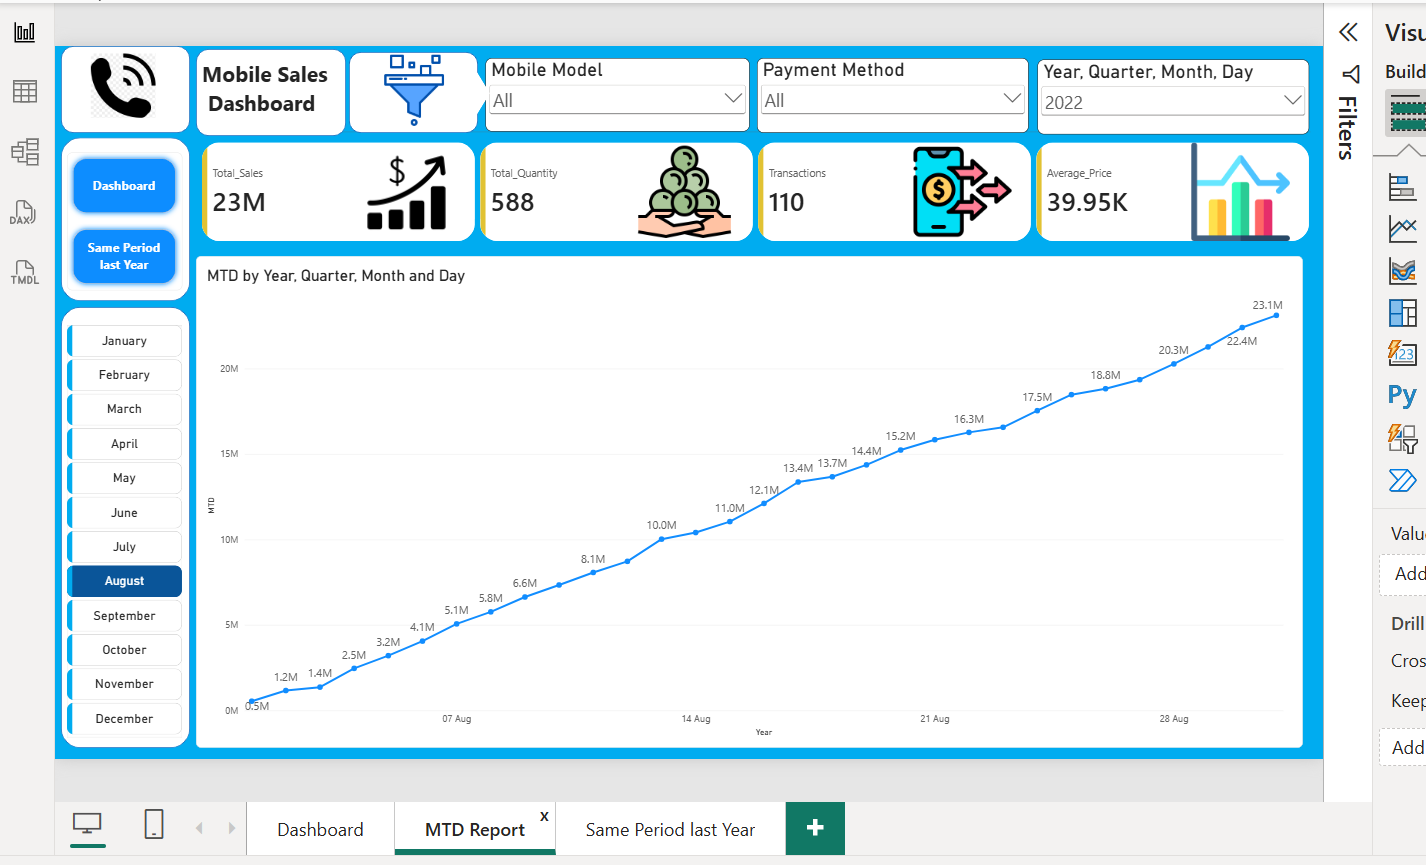

This screenshot's page, from the dashboard's own definition file:
{"tool":"powerbi","page":{"name":"MTD Report","canvas":[1920,1080],"ordinal":1},"visuals":[{"type":"shape","box":[9.1,0,195.3,131.7],"z":0},{"type":"shape","box":[9.1,138.5,195.3,247.6],"z":1000},{"type":"shape","box":[9.1,395.2,195.3,667.8],"z":2000},{"type":"advancedSlicerVisual","fields":{"Values":["Custom_Calendar.Date.Variation.Date Hierarchy.Month"]},"box":[18.2,422.5,174.9,624.6],"z":3000},{"type":"cardVisual","fields":{"Data":["Mobile_Sales_data.Total_Sales","Mobile_Sales_data.Total_Quantity","Mobile_Sales_data.Transactions","Mobile_Sales_data.Average_Price"]},"box":[222.6,129.5,1678.5,165.8],"z":4000},{"type":"slicer","fields":{"Values":["Mobile_Sales_data.Mobile Model"]},"box":[651.9,18.2,399.8,111.3],"z":5000},{"type":"slicer","fields":{"Values":["Mobile_Sales_data.Payment Method"]},"box":[1063,18.2,411.1,113.6],"z":6000},{"type":"slicer","fields":{"Values":["Custom_Calendar.Date.Variation.Date Hierarchy.Year","Custom_Calendar.Date.Variation.Date Hierarchy.Quarter","Custom_Calendar.Date.Variation.Date Hierarchy.Month","Custom_Calendar.Date.Variation.Date Hierarchy.Day"]},"box":[1487.7,20.4,411.1,113.6],"z":7000},{"type":"shape","box":[445.2,9.1,195.3,122.7],"z":8000},{"type":"image","box":[470.2,11.4,147.6,111.3],"z":9000},{"type":"shape","box":[613.3,34.1,45.4,75],"z":10000},{"type":"image","box":[13.6,11.4,179.4,97.7],"z":11000},{"type":"shape","box":[213.5,4.5,227.1,131.7],"z":12000},{"type":"textbox","box":[222.6,20.4,199.9,88.6],"z":13000},{"type":"lineChart","fields":{"Category":["Custom_Calendar.Date.Variation.Date Hierarchy.Year","Custom_Calendar.Date.Variation.Date Hierarchy.Quarter","Custom_Calendar.Date.Variation.Date Hierarchy.Month","Custom_Calendar.Date.Variation.Date Hierarchy.Day"],"Y":["Mobile_Sales_data.MTD"]},"box":[213.5,318,1676.2,745],"z":14000},{"type":"pageNavigator","box":[18.2,161.3,174.9,209],"z":14001}]}

Visuals, with their boxes on the page's 1920x1080 design canvas (x1, y1, x2, y2). These are canvas units, not pixel positions in the 1426x865 screenshot, which may show the page scaled, cropped or inside an application window:
shape: <region>9, 0, 204, 132</region>
shape: <region>9, 138, 204, 386</region>
shape: <region>9, 395, 204, 1063</region>
advancedSlicerVisual - Custom_Calendar.Date.Variation.Date Hierarchy.Month: <region>18, 422, 193, 1047</region>
cardVisual - Mobile_Sales_data.Total_Sales x Mobile_Sales_data.Total_Quantity: <region>223, 130, 1901, 295</region>
slicer - Mobile_Sales_data.Mobile Model: <region>652, 18, 1052, 130</region>
slicer - Mobile_Sales_data.Payment Method: <region>1063, 18, 1474, 132</region>
slicer - Custom_Calendar.Date.Variation.Date Hierarchy.Year x Custom_Calendar.Date.Variation.Date Hierarchy.Quarter: <region>1488, 20, 1899, 134</region>
shape: <region>445, 9, 640, 132</region>
image: <region>470, 11, 618, 123</region>
shape: <region>613, 34, 659, 109</region>
image: <region>14, 11, 193, 109</region>
shape: <region>214, 4, 441, 136</region>
textbox: <region>223, 20, 422, 109</region>
lineChart - Custom_Calendar.Date.Variation.Date Hierarchy.Year x Custom_Calendar.Date.Variation.Date Hierarchy.Quarter: <region>214, 318, 1890, 1063</region>
pageNavigator: <region>18, 161, 193, 370</region>
